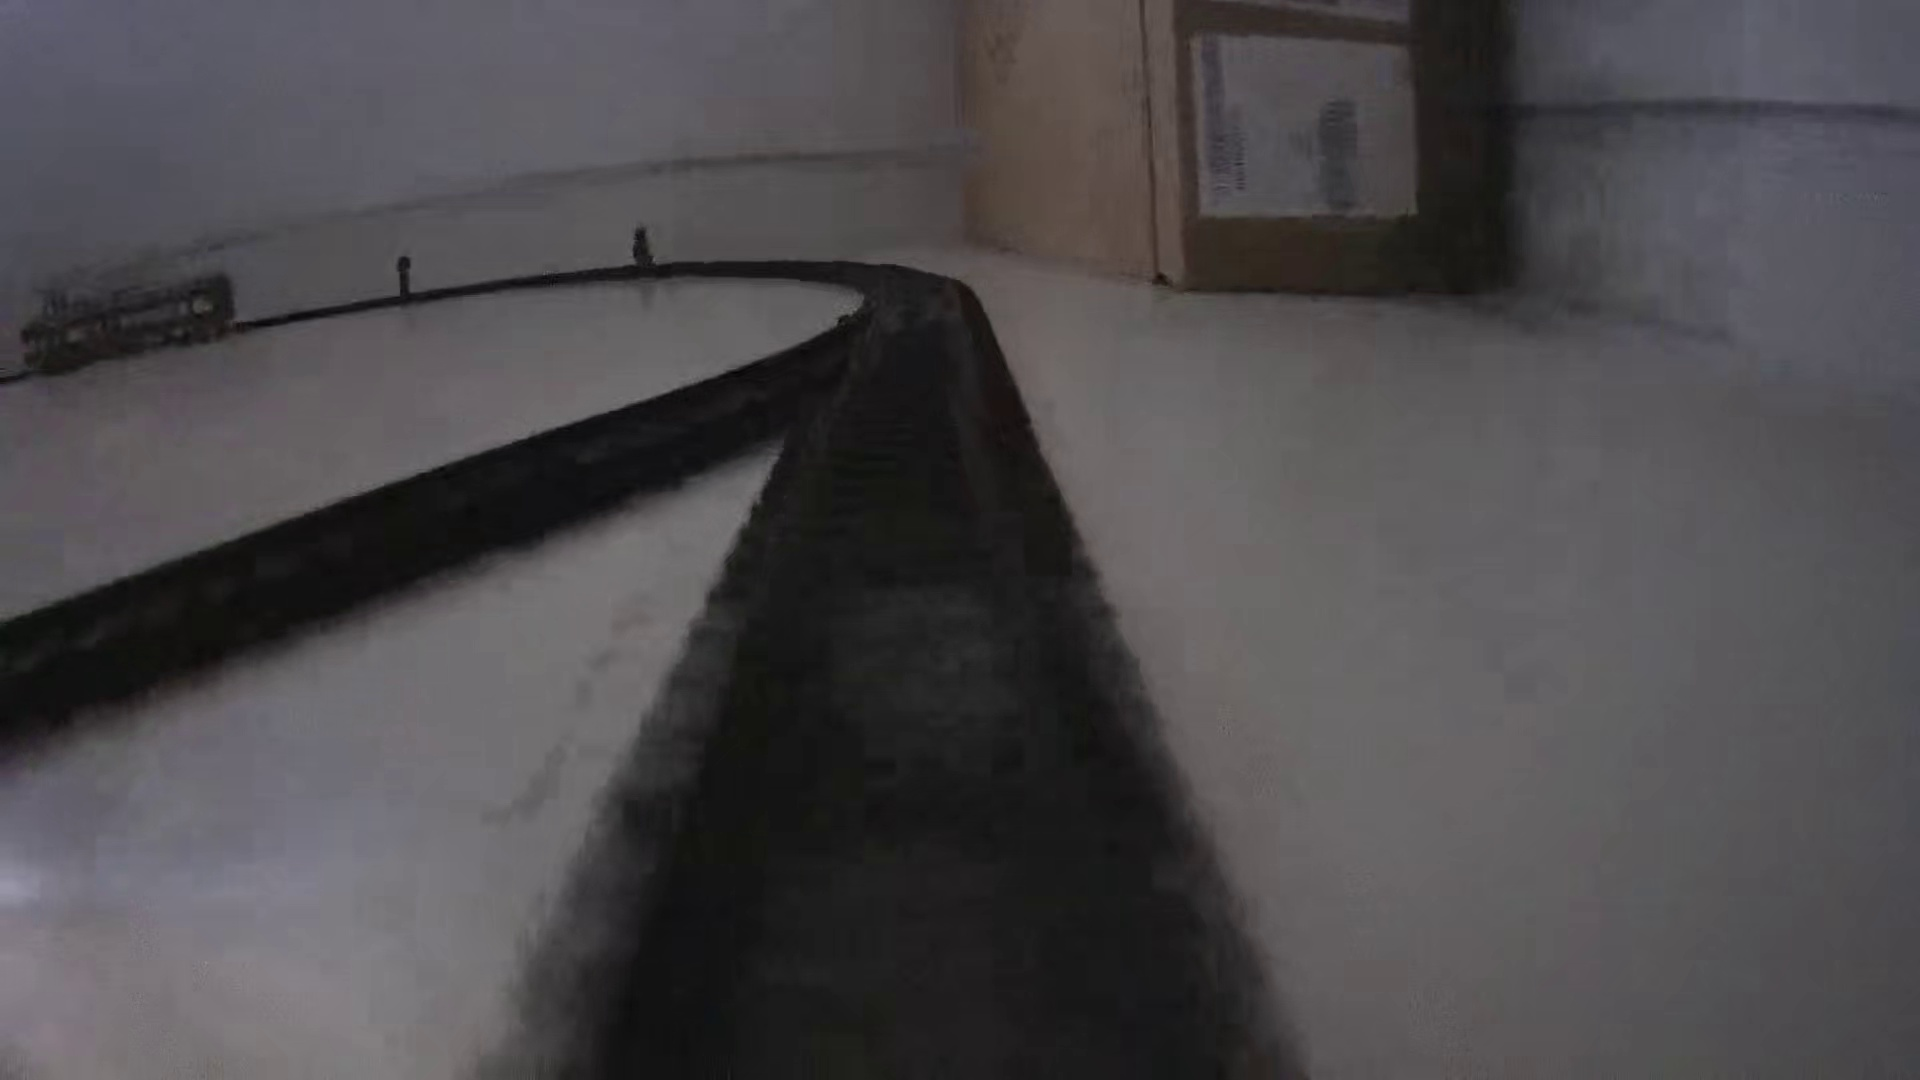people: (629, 224, 657, 271), (394, 254, 413, 305)
